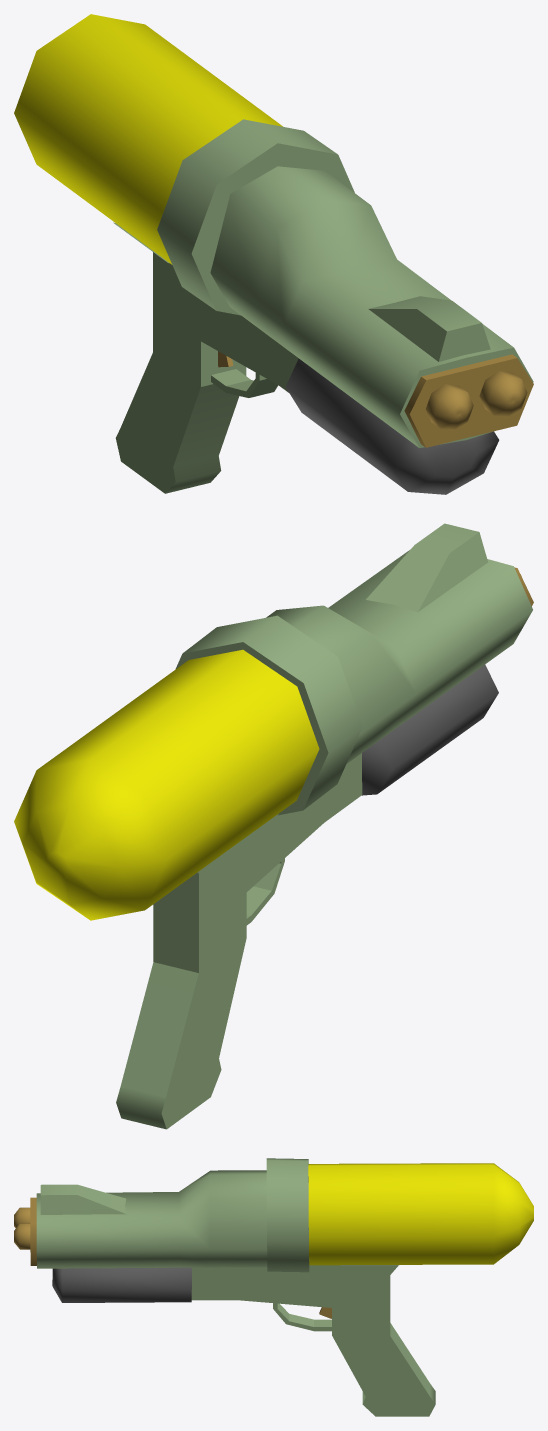
The model's file is Weapon_MachineGun_Blockout.fbx.
The picture shows the model from 3 angles, top to bottom: view 1: azimuth 30°, elevation 25°; view 2: azimuth 150°, elevation 25°; view 3: azimuth 270°, elevation 25°; orthographic projection. The views are drawn at different scales.
Visible parts, largest first — view 1: pCylinder4, pCylinder2, pCube10, pCylinder3, pCylinder1, pCube8, pCube9, pCylinder5, pCylinder10; view 2: pCylinder2, pCube10, pCylinder4, pCylinder3, pCylinder1, pCube9; view 3: pCylinder2, pCylinder4, pCube10, pCylinder1, pCylinder3, pCube9, pCube8, pCylinder10.
Part boxes in pixels (box(x1,y1,x2,y2)): pCylinder4: box(210, 166, 533, 447); pCylinder2: box(14, 14, 282, 264); pCube10: box(113, 222, 298, 493); pCylinder3: box(157, 119, 354, 315); pCylinder1: box(285, 358, 499, 494); pCube8: box(404, 354, 533, 447); pCube9: box(368, 296, 490, 361); pCylinder5: box(426, 383, 473, 430); pCylinder10: box(479, 370, 527, 417); pCylinder2: box(14, 649, 319, 920); pCube10: box(116, 753, 362, 1129); pCylinder4: box(266, 549, 532, 763); pCylinder3: box(175, 615, 362, 815); pCylinder1: box(362, 664, 498, 795); pCube9: box(366, 523, 487, 612); pCylinder2: box(308, 1163, 533, 1265); pCylinder4: box(36, 1170, 267, 1268); pCube10: box(191, 1265, 435, 1416); pCylinder1: box(52, 1267, 191, 1302); pCylinder3: box(266, 1158, 309, 1272); pCube9: box(40, 1184, 126, 1214); pCube8: box(30, 1197, 36, 1265); pCylinder10: box(14, 1223, 30, 1249).
Bounding box in the file's own units: 0.0894 × 0.2043 × 0.3857.
